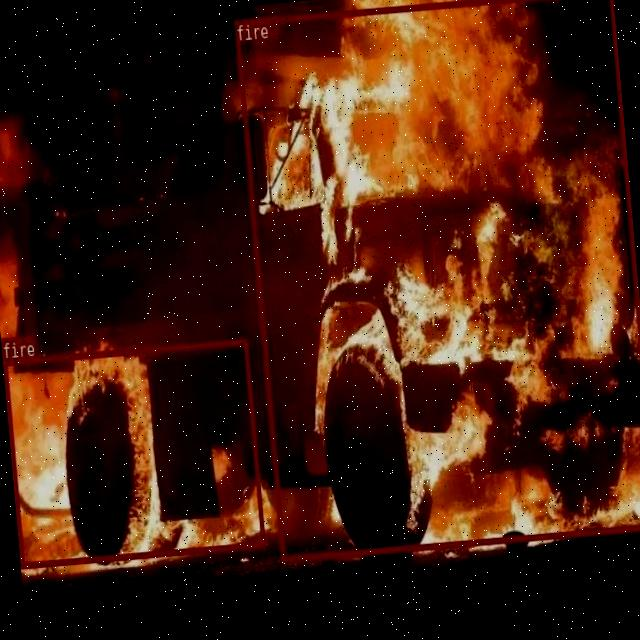fire: (233, 0, 640, 560), (2, 337, 263, 566)
